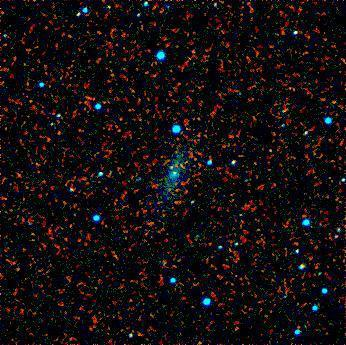star: (154, 154, 184, 184)
